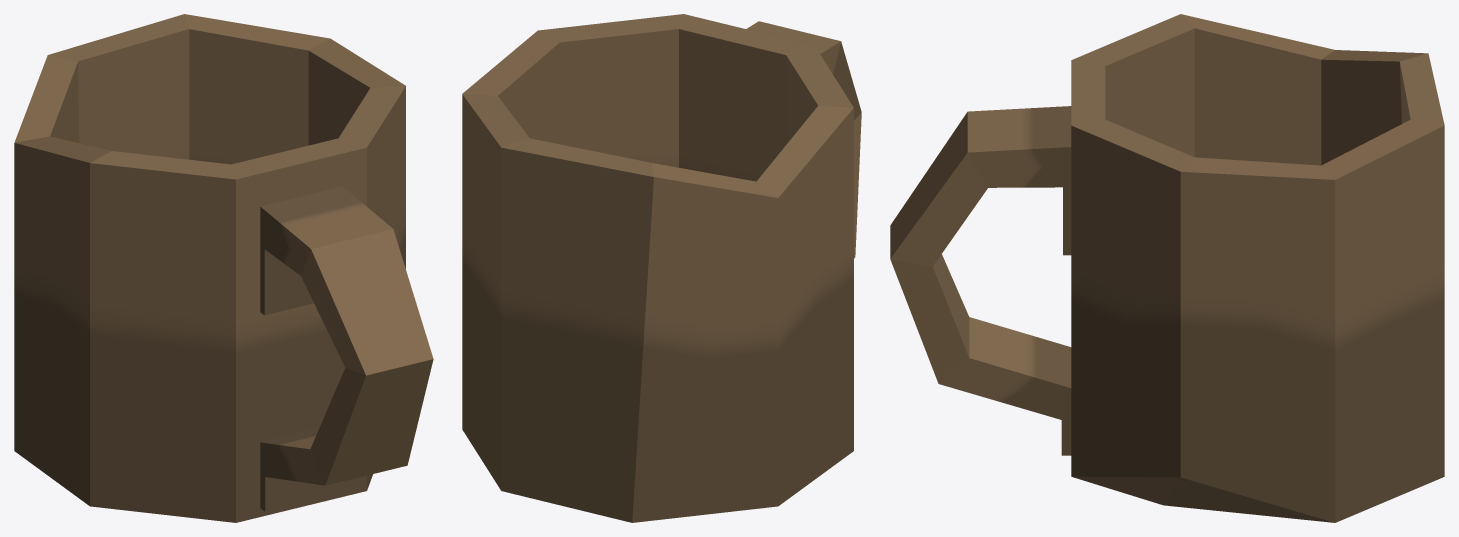
File: SM_Prop_Cup_01.fbx
3 views of the same model, side by side, from view 1: azimuth 30°, elevation 25°; view 2: azimuth 150°, elevation 25°; view 3: azimuth 270°, elevation 25° (orthographic). The views are drawn at different scales.
Parts seen in each view (by area): view 1: SM_Prop_Cup_01; view 2: SM_Prop_Cup_01; view 3: SM_Prop_Cup_01.
Boxes of the visible parts, x1,y1,x2,y2 form: SM_Prop_Cup_01: [14, 14, 433, 522]; SM_Prop_Cup_01: [462, 14, 861, 522]; SM_Prop_Cup_01: [890, 14, 1444, 522].
Bounding box in the file's own units: 12.98 × 13.48 × 19.28.
